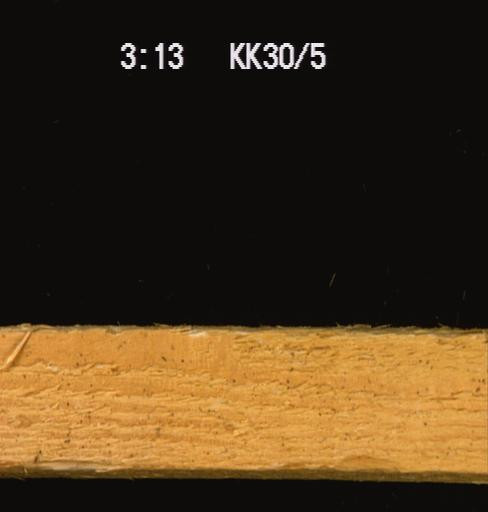wave: (243, 448, 421, 480), (4, 453, 120, 476)
